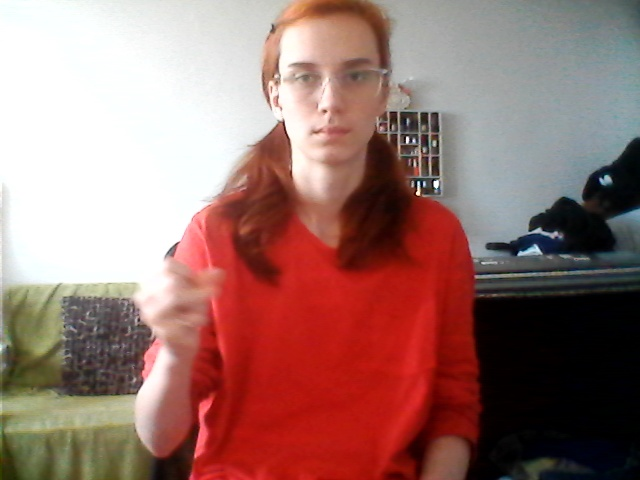r: (118, 252, 241, 359)
